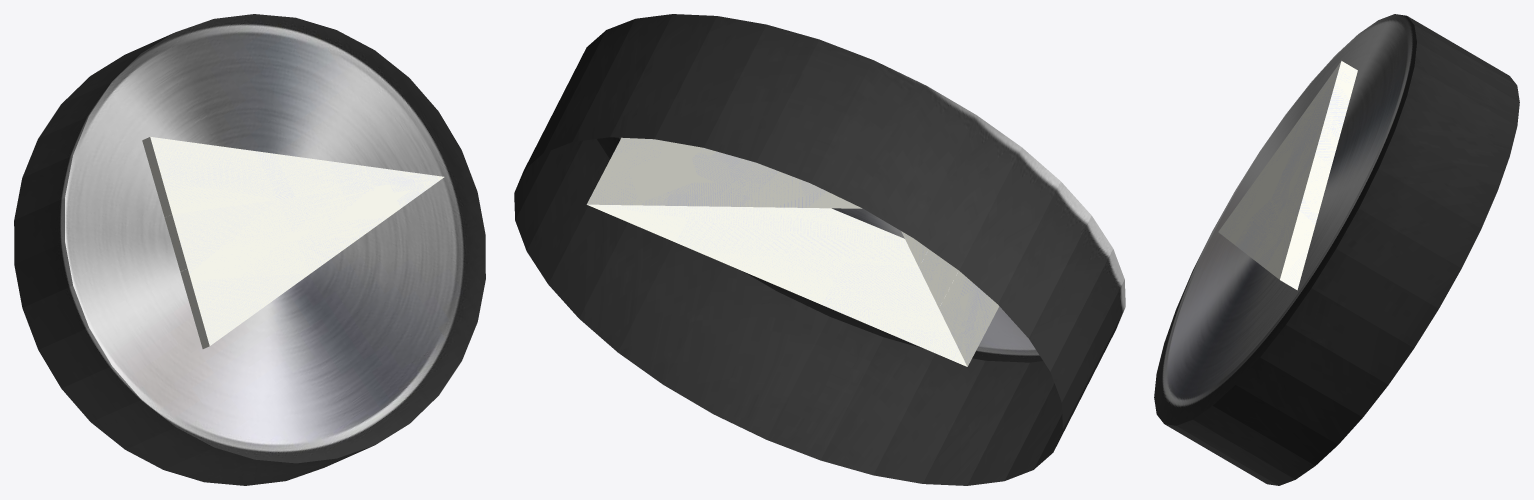
The model's file is Botao_Proximo.gltf.
3 views of the same model, side by side, from view 1: azimuth 30°, elevation 25°; view 2: azimuth 150°, elevation 25°; view 3: azimuth 270°, elevation 25° (orthographic). The views are drawn at different scales.
Parts seen in each view (by area): view 1: Circle.003, instance_1.087; view 2: Circle.003, instance_1.087; view 3: Circle.003, instance_1.087.
Boxes of the visible parts, box(x1,y1,x2,y2) form: Circle.003: box(14, 14, 485, 485); instance_1.087: box(142, 137, 444, 348); Circle.003: box(514, 14, 1125, 485); instance_1.087: box(586, 137, 999, 366); Circle.003: box(1154, 14, 1519, 485); instance_1.087: box(1218, 61, 1357, 290).
Bounding box in the file's own units: 0.2666 × 0.2537 × 0.2013.
Materials: 3 (1 with a texture image).
